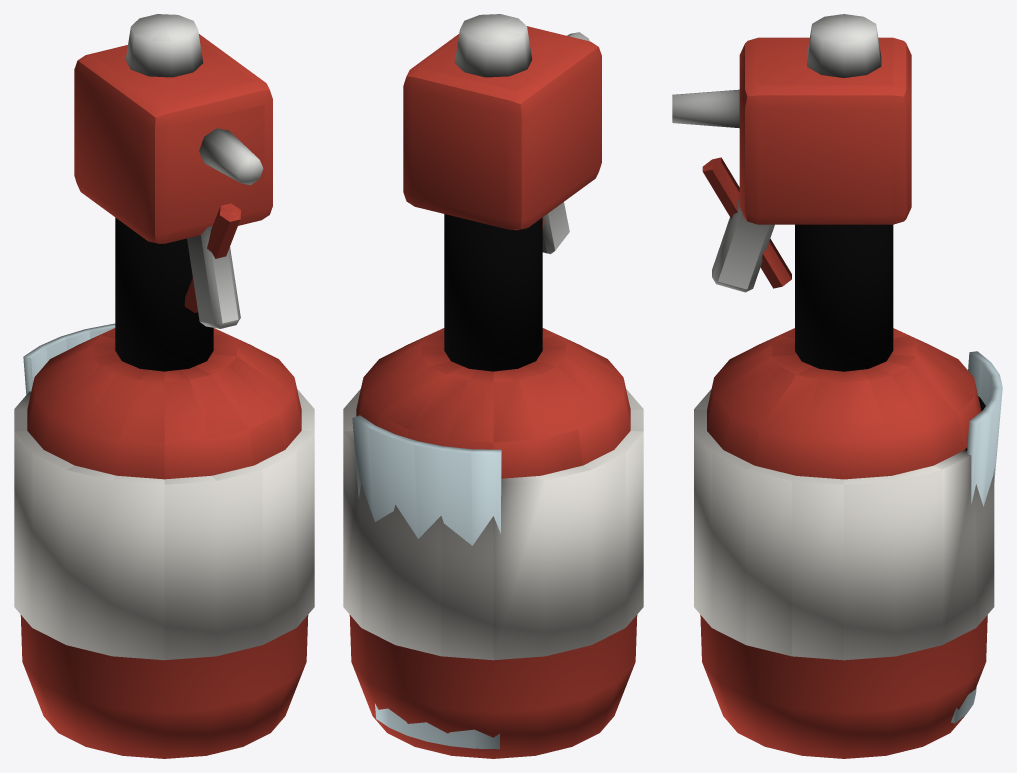
Rendered from spray_bottle.glb.
The picture shows the model from 3 angles, left to right: view 1: azimuth 30°, elevation 25°; view 2: azimuth 150°, elevation 25°; view 3: azimuth 270°, elevation 25°; orthographic projection.
Parts seen in each view (by area): view 1: body, label, head, neck, turret, trigger, nozzle, liquid, guard; view 2: body, label, head, liquid, neck, turret, trigger; view 3: body, label, head, neck, turret, liquid, trigger, nozzle, guard.
Part boxes in pixels (x1,y1,x2,y2): body: (20,328,308,758); label: (14,389,314,660); head: (74,34,272,243); neck: (115,217,213,371); turret: (125,14,203,77); trigger: (187,226,240,328); nozzle: (199,128,263,185); liquid: (23,323,115,394); guard: (184,203,240,312); body: (349,328,637,758); label: (343,389,643,660); head: (403,26,601,230); liquid: (352,415,501,749); neck: (444,214,542,371); turret: (454,14,532,77); trigger: (542,202,569,254); body: (700,328,987,758); label: (694,389,994,660); head: (739,37,911,224); neck: (795,224,893,371); turret: (807,14,881,77); liquid: (951,351,1002,723); trigger: (712,196,774,292); nozzle: (672,89,739,128); guard: (702,157,791,288).
Bounding box in the file's own units: 0.0994 × 0.244 × 0.1077.
